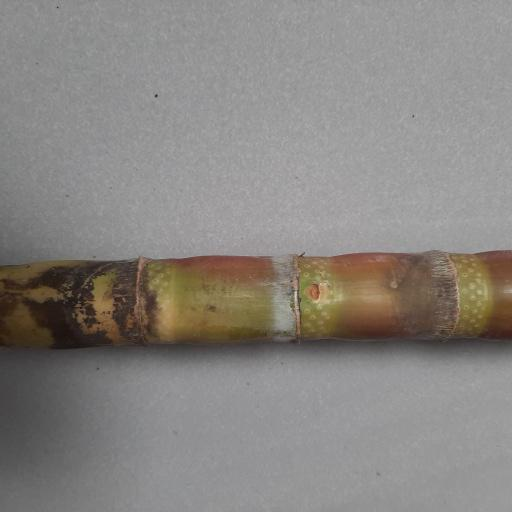Damage_Bud: (301, 283, 320, 303)
